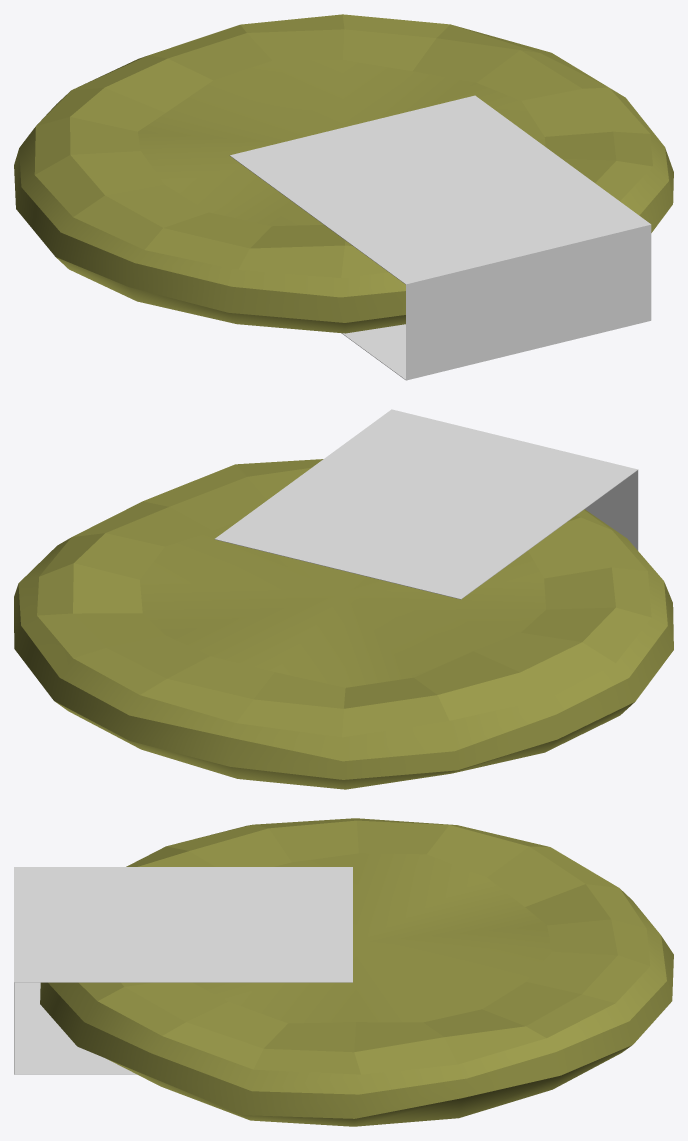
The model's file is pancake.fbx.
3 views of the same model, one above another, from view 1: azimuth 30°, elevation 25°; view 2: azimuth 150°, elevation 25°; view 3: azimuth 270°, elevation 25° (orthographic). The views are drawn at different scales.
Visible parts, largest first — view 1: pancake, paper; view 2: pancake, paper; view 3: pancake, paper.
Boxes of the visible parts, left/top/right/bottom form: pancake: left=14, top=14, right=673, bottom=333; paper: left=229, top=95, right=651, bottom=380; pancake: left=14, top=459, right=673, bottom=789; paper: left=214, top=409, right=638, bottom=599; pancake: left=40, top=818, right=673, bottom=1126; paper: left=14, top=867, right=352, bottom=1074.
Size of the model in its own units: 6 by 6.17 by 0.954.
